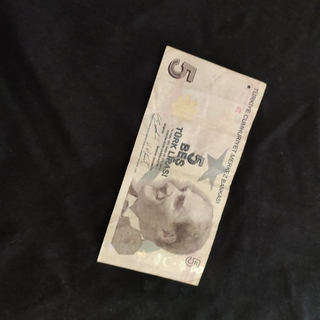5TLFront: (94, 45, 267, 285)
